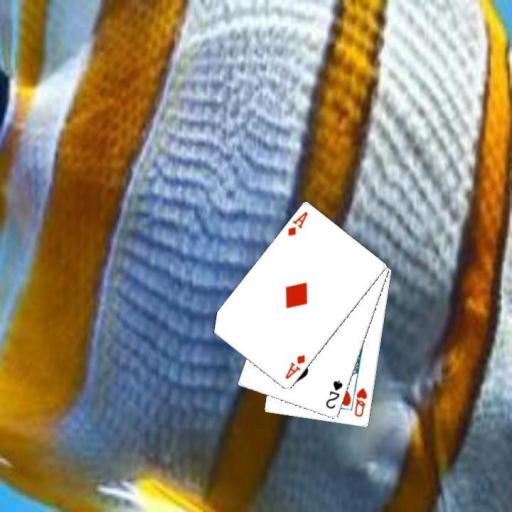2S: (323, 377, 344, 410)
AD: (285, 209, 310, 239), (282, 352, 307, 381)
QH: (351, 385, 369, 419)
